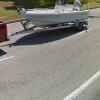Boat: (14, 5, 97, 39)
